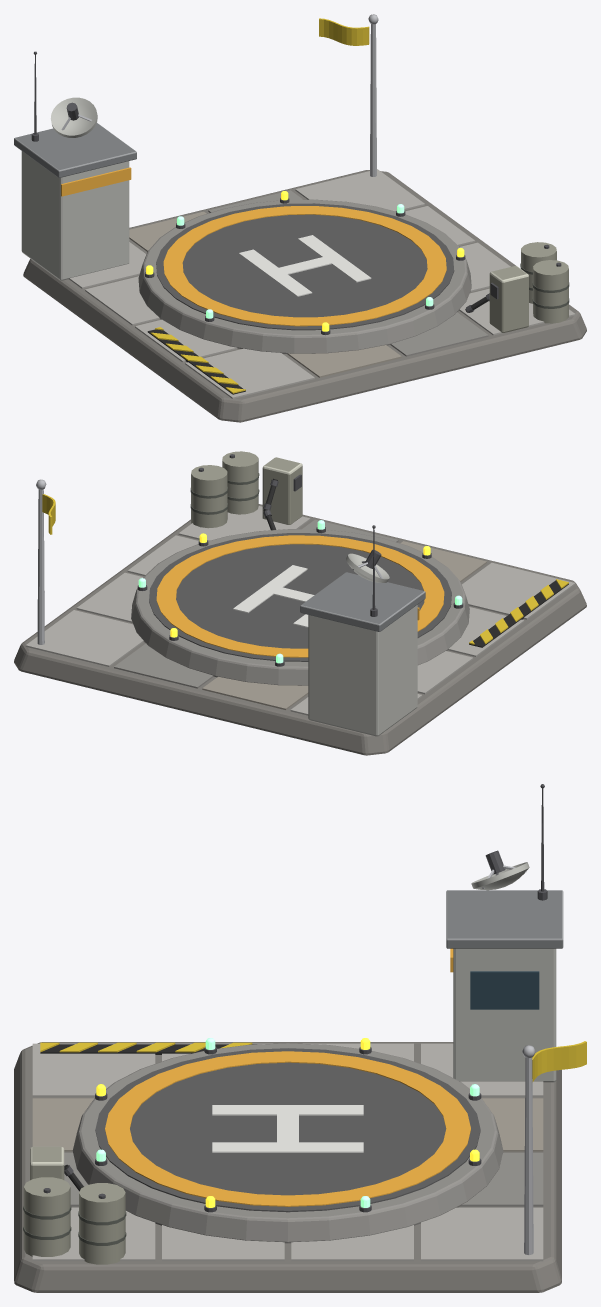
File: helipad_orange.glb
3 views of the same model, one above another, from view 1: azimuth 30°, elevation 25°; view 2: azimuth 150°, elevation 25°; view 3: azimuth 270°, elevation 25° (orthographic). The views are drawn at different scales.
Visible parts, largest first — view 1: Body; view 2: Body; view 3: Body.
Boxes of the visible parts, bbox=[...] form: Body: bbox=[14, 14, 586, 422]; Body: bbox=[14, 451, 586, 755]; Body: bbox=[14, 784, 586, 1292].
Size of the model in its own units: 3.99 by 2.3 by 4.16.
Materials: 1 (1 with a texture image).
